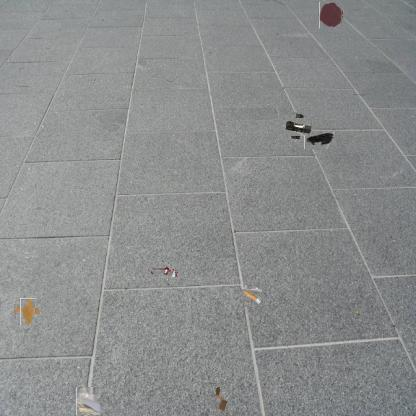dirty: (76, 387, 101, 415), (212, 383, 230, 415), (285, 116, 309, 140), (304, 131, 335, 149), (148, 264, 178, 278), (242, 287, 260, 305)
liquid: (319, 3, 343, 28), (17, 301, 38, 322)
